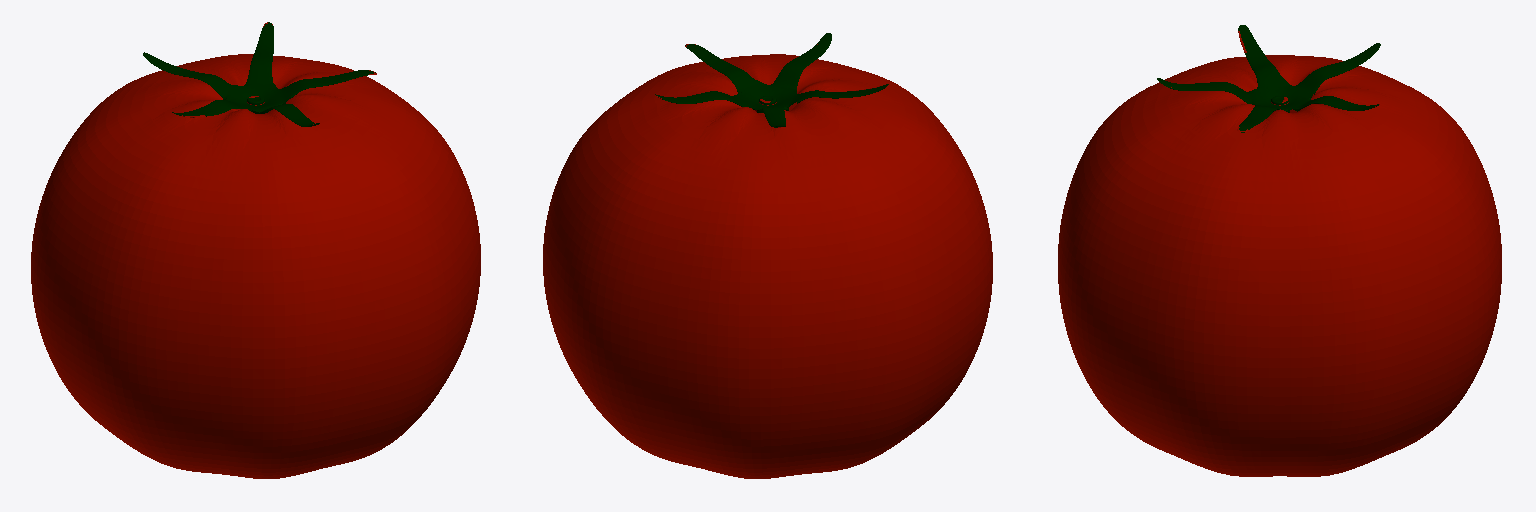
3 renders of one model, left to right at view 1: azimuth 30°, elevation 25°; view 2: azimuth 150°, elevation 25°; view 3: azimuth 270°, elevation 25°, orthographic.
Parts seen in each view (by area): view 1: Sphere.001, Sphere; view 2: Sphere.001, Sphere; view 3: Sphere.001, Sphere.
Part boxes in pixels (bbox=[...]): Sphere.001: bbox=[31, 54, 480, 478]; Sphere: bbox=[143, 22, 376, 126]; Sphere.001: bbox=[543, 54, 992, 478]; Sphere: bbox=[655, 33, 888, 127]; Sphere.001: bbox=[1058, 55, 1501, 476]; Sphere: bbox=[1157, 25, 1380, 132].
Bounding box in the file's own units: 0.0923 × 0.0833 × 0.0923.
Materials: 1 (1 with a texture image).